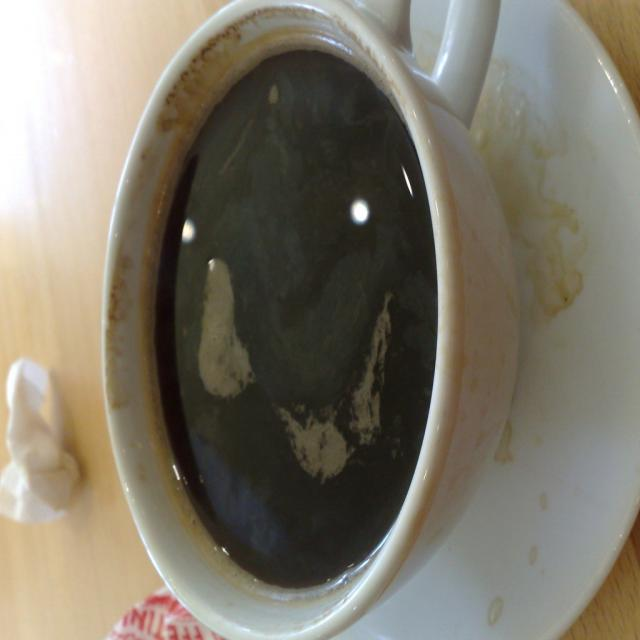Coffee: (119, 30, 459, 547)
Tea: (142, 39, 440, 601)
